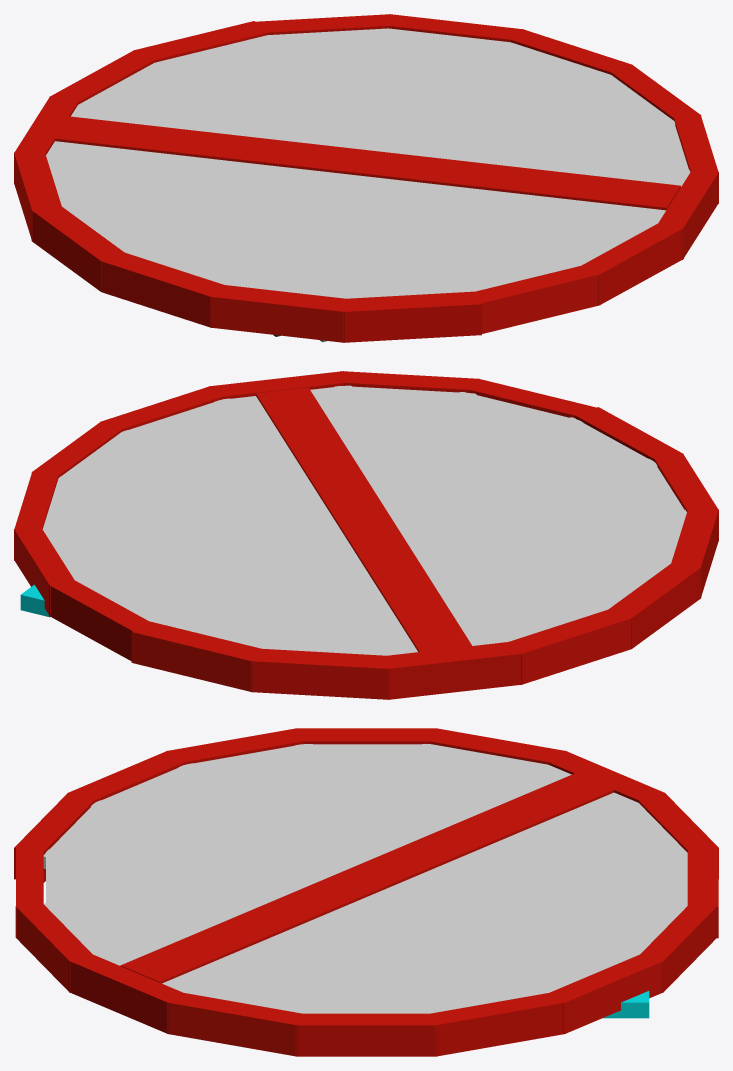
Rendered from nopeepo.dae.
3 views of the same model, one above another, from view 1: azimuth 30°, elevation 25°; view 2: azimuth 150°, elevation 25°; view 3: azimuth 270°, elevation 25° (orthographic).
Visible parts, largest first — view 1: Cube.024, Cube.028, Cube.027, Cube.023, Cube.029, Cube.021, Cube.026, Cube.025, Cube.019, Cube.017, Cube.015, Cube.006 (+13 smaller); view 2: Cube.025, Cube.026, Cube.029, Cube.028, Cube.024, Cube.023, Cube.021, Cube.022, Cube.027, Cube.007, Cube.009, Cube.005 (+14 smaller); view 3: Cube.027, Cube.024, Cube.029, Cube.028, Cube.021, Cube.025, Cube.023, Cube.026, Cube.022, Cube.014, Cube.016, Cube.012 (+14 smaller).
Part boxes in pixels (x1=…): Cube.024: x1=150, y1=35, x2=584, y2=292; Cube.028: x1=62, y1=72, x2=675, y2=255; Cube.027: x1=122, y1=41, x2=614, y2=286; Cube.023: x1=76, y1=60, x2=659, y2=268; Cube.029: x1=46, y1=117, x2=688, y2=211; Cube.021: x1=55, y1=116, x2=680, y2=210; Cube.026: x1=225, y1=28, x2=515, y2=298; Cube.025: x1=256, y1=29, x2=478, y2=297; Cube.019: x1=339, y1=291, x2=481, y2=342; Cube.017: x1=210, y1=284, x2=352, y2=342; Cube.015: x1=100, y1=251, x2=229, y2=327; Cube.006: x1=466, y1=266, x2=600, y2=333; Cube.025: x1=84, y1=417, x2=657, y2=624; Cube.026: x1=42, y1=459, x2=683, y2=585; Cube.029: x1=117, y1=398, x2=609, y2=643; Cube.028: x1=57, y1=430, x2=671, y2=612; Cube.024: x1=165, y1=392, x2=583, y2=649; Cube.023: x1=256, y1=386, x2=476, y2=655; Cube.021: x1=256, y1=387, x2=471, y2=652; Cube.022: x1=214, y1=385, x2=512, y2=655; Cube.027: x1=43, y1=476, x2=686, y2=562; Cube.007: x1=251, y1=648, x2=391, y2=699; Cube.009: x1=380, y1=641, x2=522, y2=699; Cube.005: x1=131, y1=621, x2=260, y2=692; Cube.027: x1=178, y1=744, x2=553, y2=1013; Cube.024: x1=46, y1=849, x2=687, y2=910; Cube.029: x1=180, y1=744, x2=555, y2=1013; Cube.028: x1=295, y1=744, x2=440, y2=1013; Cube.021: x1=120, y1=773, x2=613, y2=983; Cube.025: x1=43, y1=800, x2=682, y2=958; Cube.023: x1=44, y1=800, x2=683, y2=959; Cube.026: x1=90, y1=763, x2=641, y2=990; Cube.022: x1=95, y1=763, x2=641, y2=994; Cube.014: x1=295, y1=1013, x2=437, y2=1056; Cube.016: x1=425, y1=993, x2=565, y2=1056; Cube.012: x1=167, y1=992, x2=307, y2=1056.
Bounding box in the file's own units: 0.7924 × 0.7942 × 0.0487.
